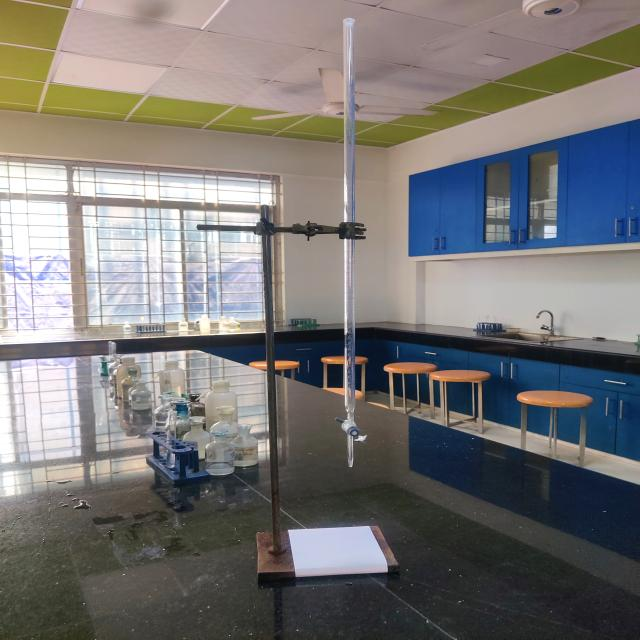Burette_Stands: (156, 189, 452, 608)
